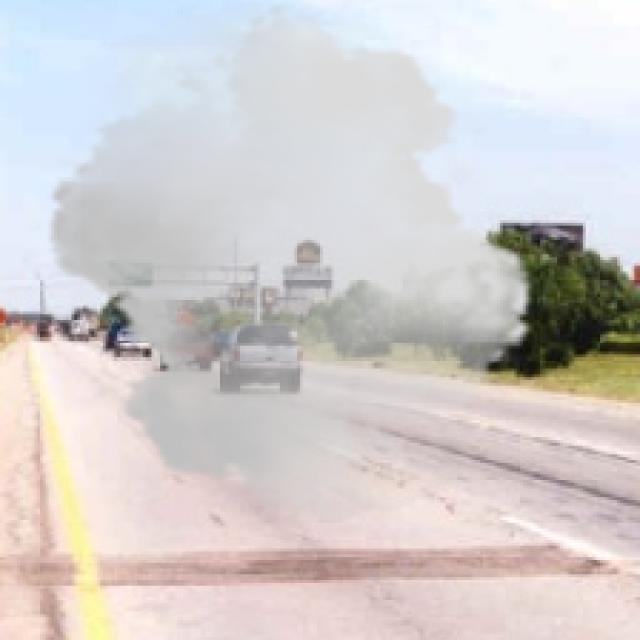Smoke: (29, 3, 552, 523)
